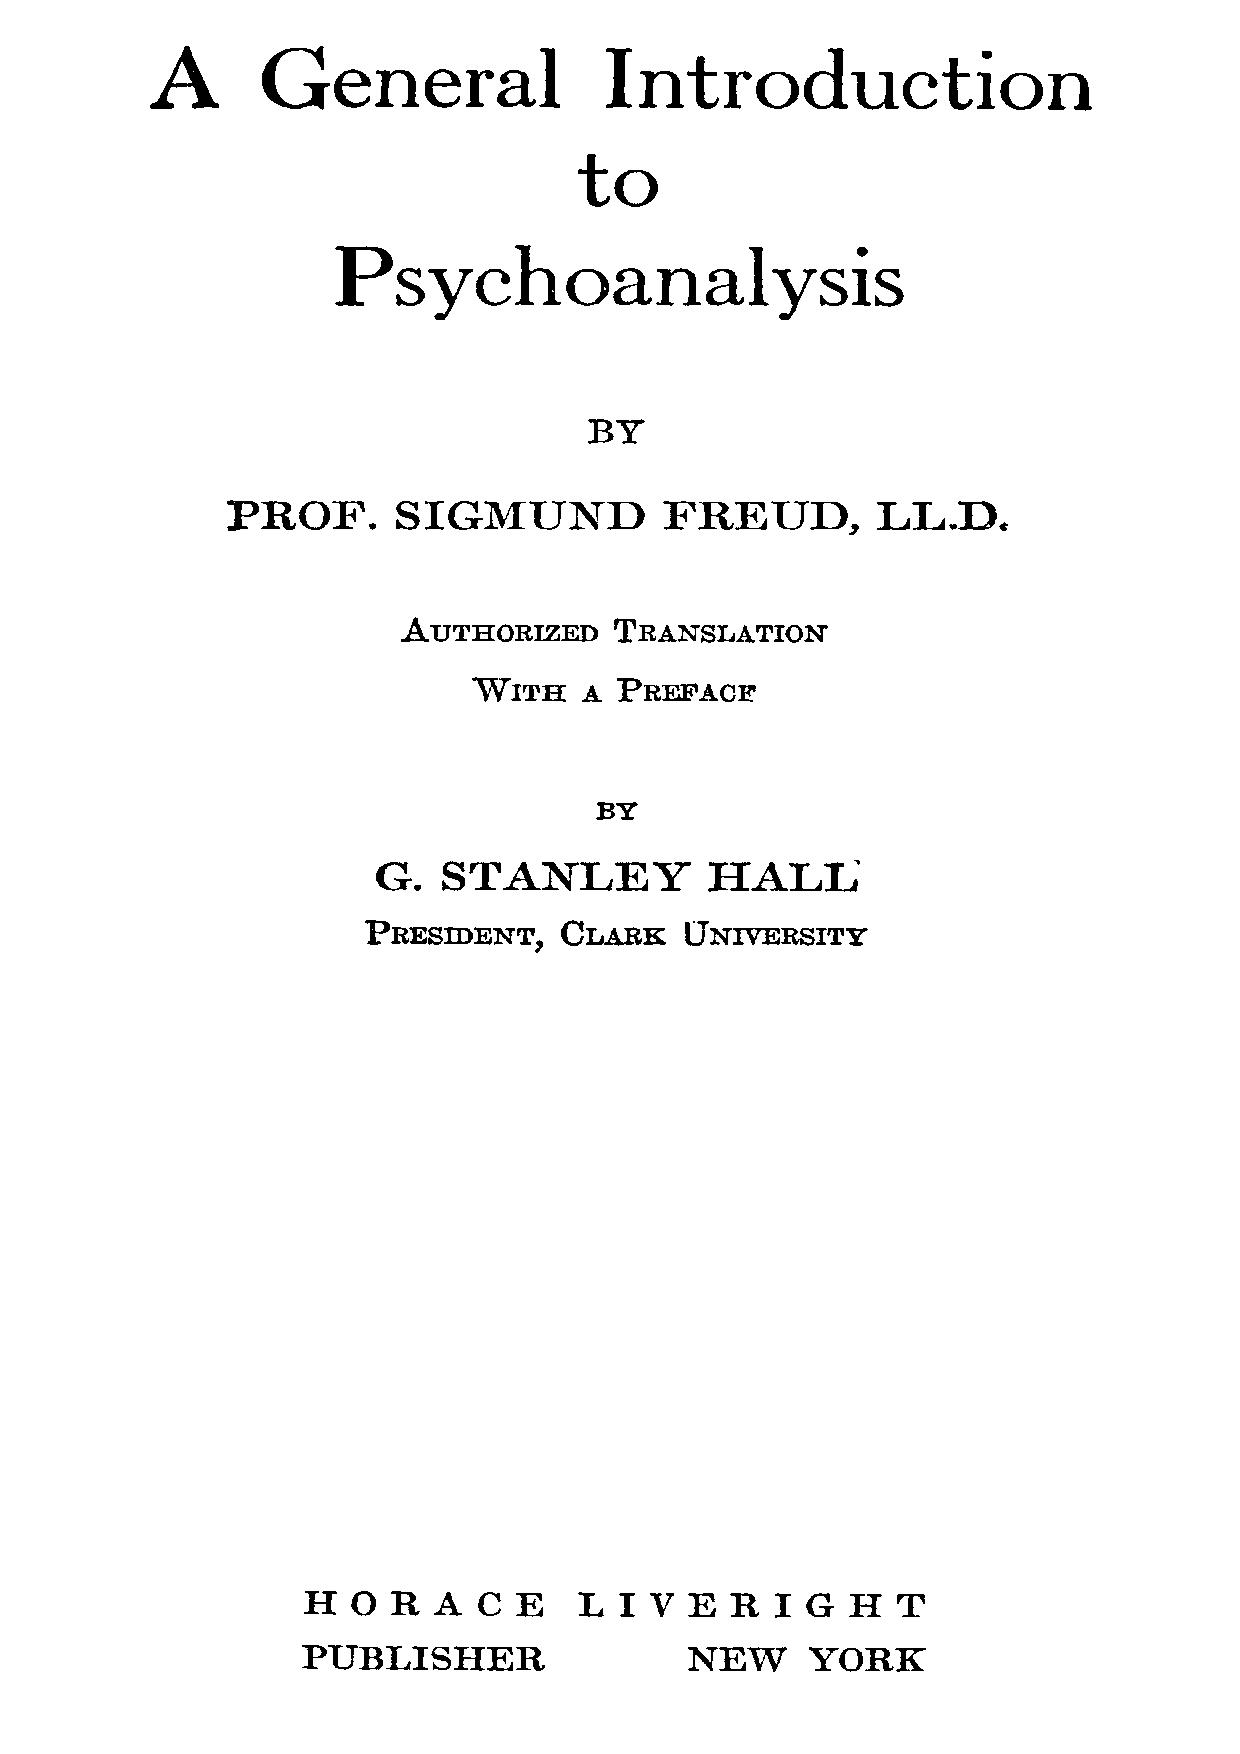author: (221, 415, 1008, 534)
title: (144, 39, 1096, 323)
